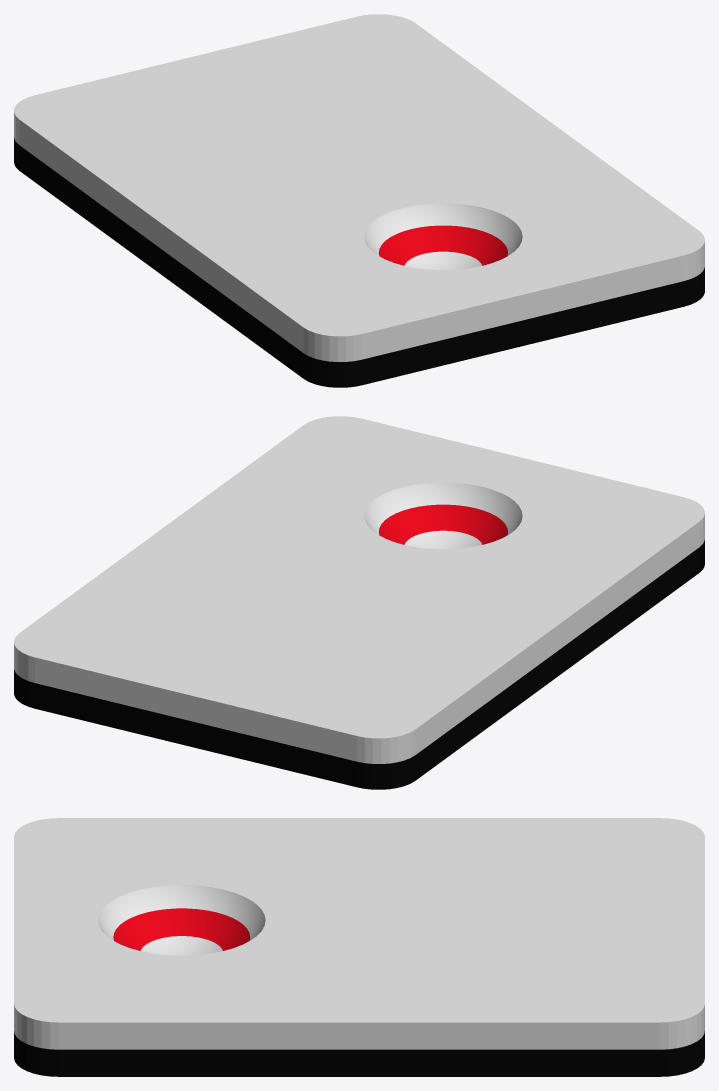
Rendered from Tile.fbx.
The picture shows the model from 3 angles, top to bottom: view 1: azimuth 30°, elevation 25°; view 2: azimuth 150°, elevation 25°; view 3: azimuth 270°, elevation 25°; orthographic projection. The views are drawn at different scales.
Parts seen in each view (by area): view 1: Cube; view 2: Cube; view 3: Cube.
Boxes of the visible parts, box(x1,y1,x2,y2) form: Cube: box(14, 14, 704, 387); Cube: box(14, 416, 704, 789); Cube: box(14, 818, 704, 1076).
Bounding box in the file's own units: 140 × 17.35 × 200.
